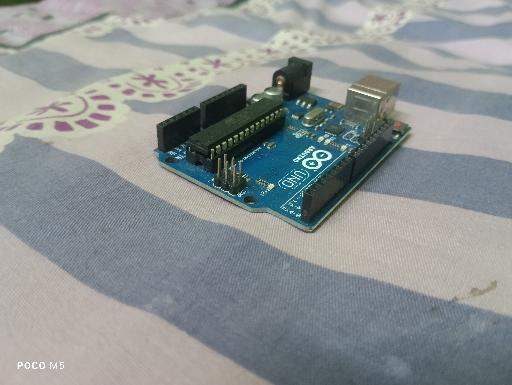Arduino: (152, 54, 413, 235)
